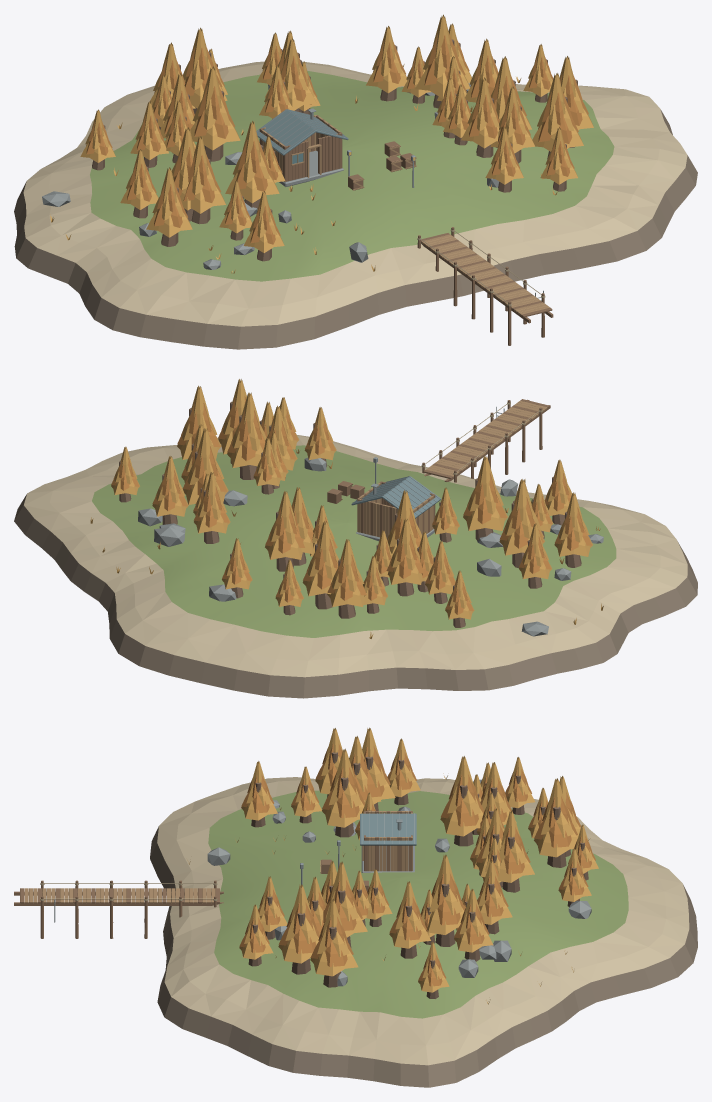
File: Island_Autumn_Original.fbx
The picture shows the model from 3 angles, top to bottom: view 1: azimuth 30°, elevation 25°; view 2: azimuth 150°, elevation 25°; view 3: azimuth 270°, elevation 25°; orthographic projection. The views are drawn at different scales.
Visible parts, largest first — view 1: Terrain_Autumn, VegetationAndRocks, HarbourCabin, FishingDock, HarbourProps; view 2: Terrain_Autumn, VegetationAndRocks, FishingDock, HarbourCabin, HarbourProps; view 3: Terrain_Autumn, VegetationAndRocks, FishingDock, HarbourCabin.
Boxes of the visible parts, box(x1,y1,x2,y2) form: Terrain_Autumn: box(14, 61, 697, 349); VegetationAndRocks: box(42, 14, 593, 273); HarbourCabin: box(256, 108, 348, 186); FishingDock: box(417, 227, 553, 345); HarbourProps: box(347, 141, 416, 190); Terrain_Autumn: box(14, 435, 697, 698); VegetationAndRocks: box(90, 379, 603, 638); FishingDock: box(421, 399, 550, 482); HarbourCabin: box(351, 476, 440, 541); HarbourProps: box(327, 457, 377, 503); Terrain_Autumn: box(150, 777, 697, 1087); VegetationAndRocks: box(187, 727, 598, 1004); FishingDock: box(14, 880, 223, 938); HarbourCabin: box(360, 811, 416, 872).
Bounding box in the file's own units: 5688 × 1405 × 5536.
